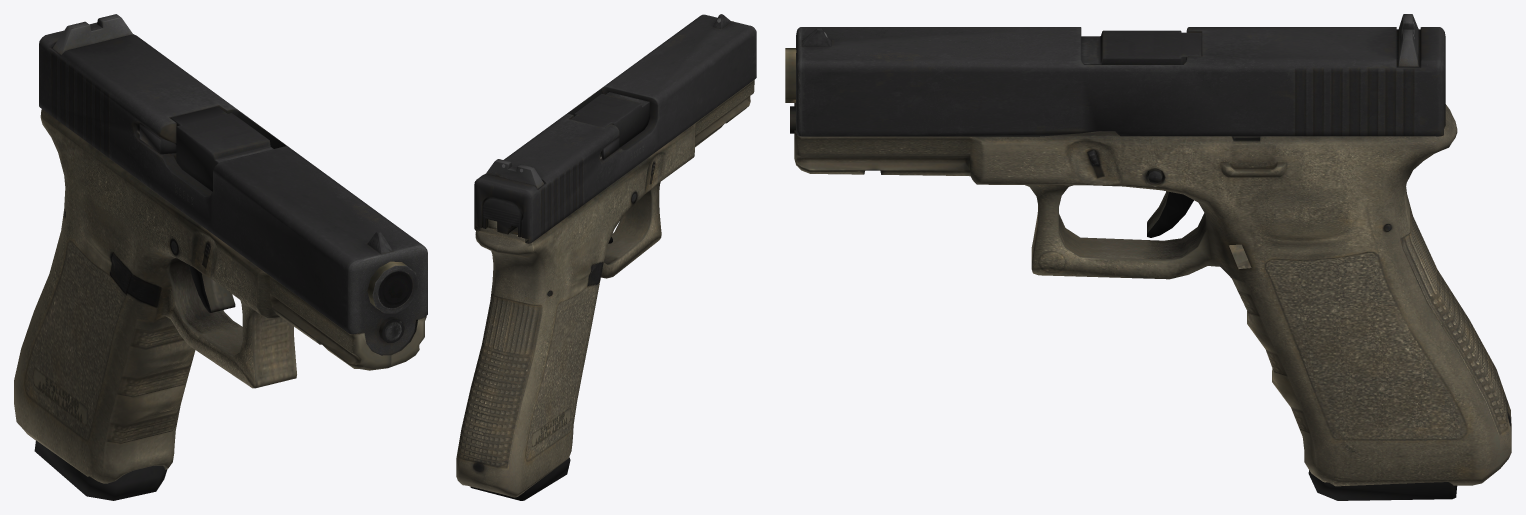
Rendered from Glock.fbx.
3 views of the same model, side by side, from view 1: azimuth 30°, elevation 25°; view 2: azimuth 150°, elevation 25°; view 3: azimuth 270°, elevation 25° (orthographic). The views are drawn at different scales.
Visible parts, largest first — view 1: Trigger, Slide, Mag2; view 2: Trigger, Slide, Mag2; view 3: Trigger, Slide, Mag2.
Boxes of the visible parts, box(x1,y1,x2,y2) form: Trigger: box(14, 106, 426, 483); Slide: box(39, 14, 427, 354); Mag2: box(34, 440, 167, 500); Trigger: box(456, 21, 754, 497); Slide: box(474, 14, 756, 243); Mag2: box(470, 457, 570, 500); Trigger: box(785, 30, 1511, 486); Slide: box(796, 14, 1445, 136); Mag2: box(1308, 470, 1457, 500).
Size of the model in its own units: 14.51 by 66.32 by 95.48.
